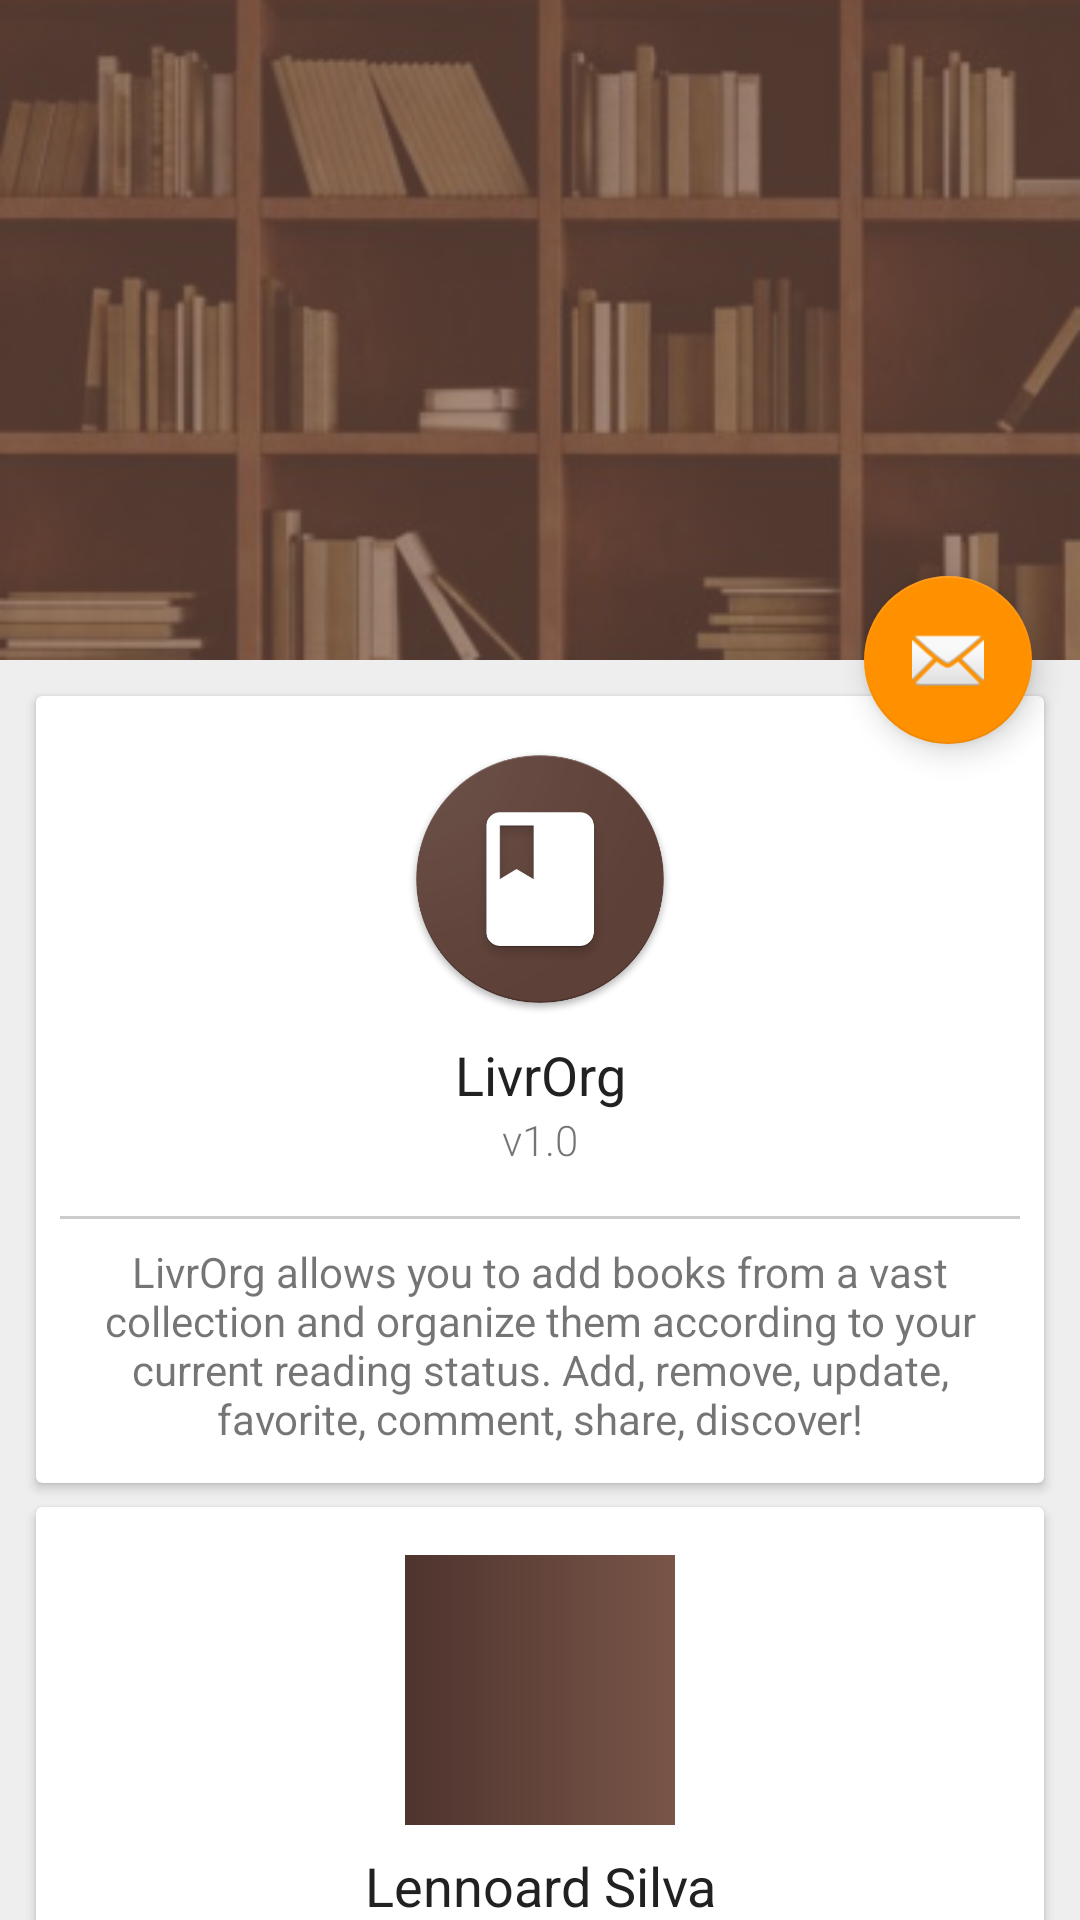

Named icons in this screenshot (1080px x 1920px) and their centers, [x,y]:
app: [540,881]
email: [948,660]
